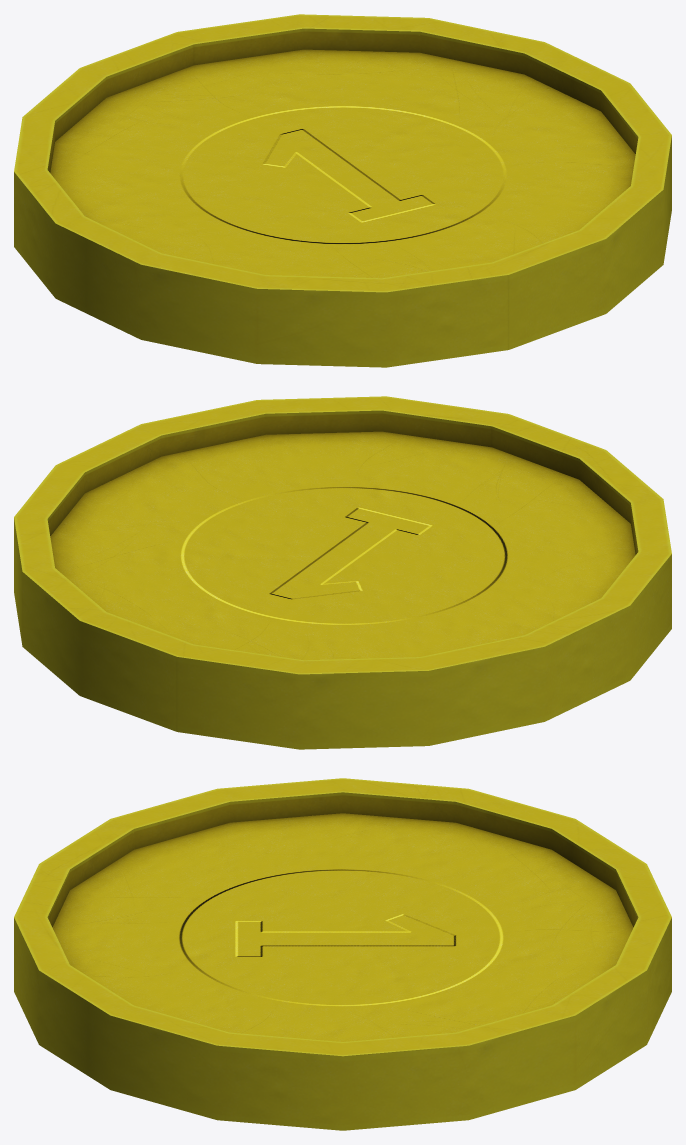
The model's file is Coin_01.FBX.
3 views of the same model, one above another, from view 1: azimuth 30°, elevation 25°; view 2: azimuth 150°, elevation 25°; view 3: azimuth 270°, elevation 25° (orthographic).
Visible parts, largest first — view 1: Cylinder001; view 2: Cylinder001; view 3: Cylinder001.
Part boxes in pixels (x1,y1,x2,y2): Cylinder001: (14,14,671,367); Cylinder001: (14,396,671,749); Cylinder001: (14,778,671,1130).
Bounding box in the file's own units: 0.6012 × 0.0752 × 0.6012.
1 material, 1 textured.
